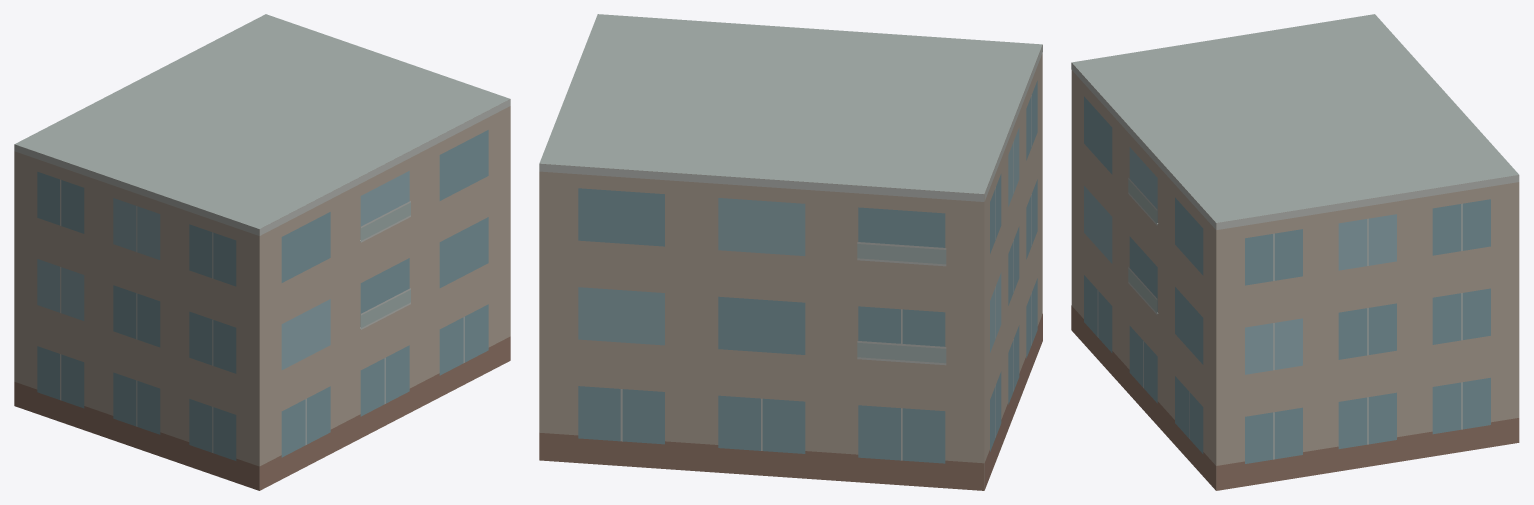
File: survey-upis-32800211.glb
3 views of the same model, side by side, from view 1: azimuth 30°, elevation 25°; view 2: azimuth 150°, elevation 25°; view 3: azimuth 270°, elevation 25° (orthographic). The views are drawn at different scales.
Visible parts, largest first — view 1: survey-upis-32800211.tmp; view 2: survey-upis-32800211.tmp; view 3: survey-upis-32800211.tmp.
Boxes of the visible parts, box(x1,y1,x2,y2) form: survey-upis-32800211.tmp: box(14, 14, 510, 490); survey-upis-32800211.tmp: box(539, 14, 1042, 490); survey-upis-32800211.tmp: box(1071, 14, 1519, 490).
Bounding box in the file's own units: 15.33 × 9.15 × 13.88.
